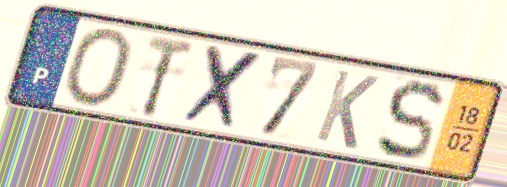7: (258, 53, 324, 141)
K: (311, 66, 382, 153)
O: (60, 26, 135, 110)
S: (373, 78, 447, 164)
T: (138, 32, 198, 120)
X: (179, 42, 268, 135)
